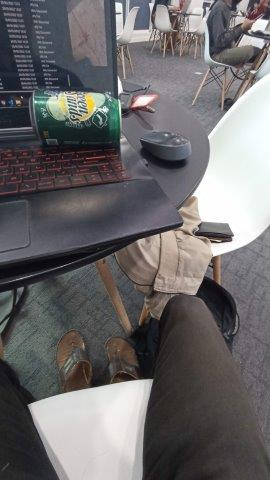kaleng: (29, 90, 121, 145)
